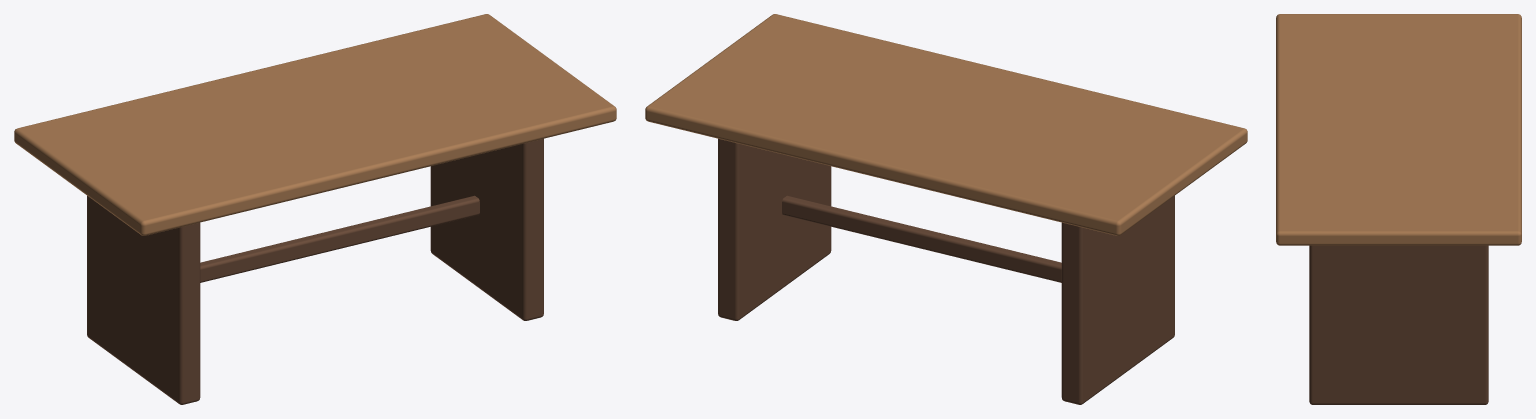
Rendered from officeDiningTable.glb.
3 views of the same model, side by side, from view 1: azimuth 30°, elevation 25°; view 2: azimuth 150°, elevation 25°; view 3: azimuth 270°, elevation 25° (orthographic). The views are drawn at different scales.
Bounding box in the file's own units: 1.8 × 0.76 × 0.85.
